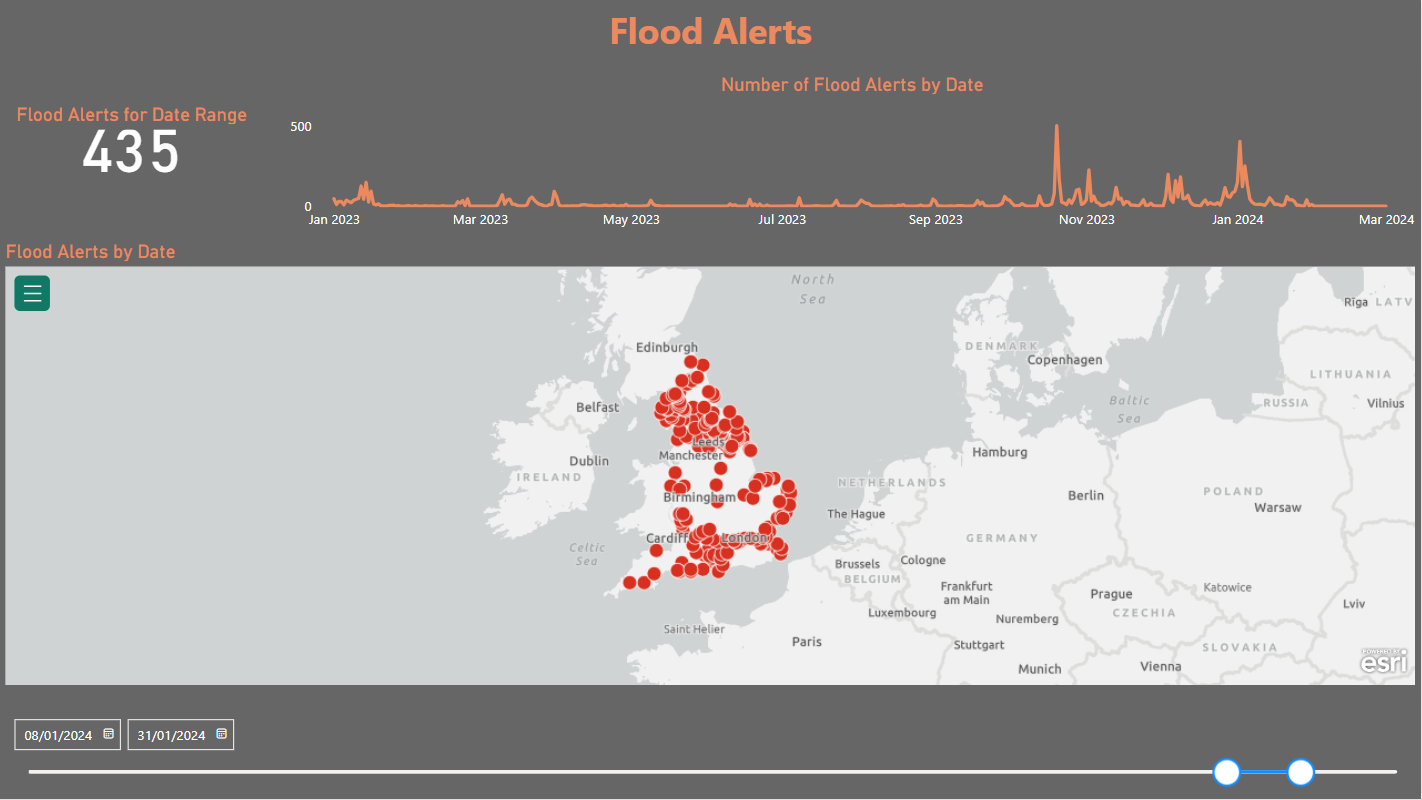

Layout of this report page (visuals, bound fields, positions):
{"tool":"powerbi","page":{"name":"FloodAlerts","canvas":[1280,720],"ordinal":0},"visuals":[{"type":"esriVisual","title":"Flood Alerts by Date","fields":{"Latitude":["vw_ml_training_flood_short.flood_area_latitude"],"Longitude":["vw_ml_training_flood_short.flood_area_longitude"],"Color":["Sum(vw_ml_training_flood_short.flood)"]},"box":[0,216.5,1280,406.1],"z":0},{"type":"slicer","fields":{"Values":["vw_ml_training_flood_short.date"]},"box":[0,638.1,1280,81.7],"z":1000},{"type":"textbox","box":[0,0,1280,56.4],"z":2000},{"type":"lineChart","title":"Number of Flood Alerts by Date","fields":{"Category":["vw_ml_training_flood_short.date"],"Y":["Sum(vw_ml_training_flood_short.flood)"]},"box":[256,66,1024,150],"z":4000},{"type":"card","title":"Flood Alerts for Date Range","fields":{"Values":["Sum(vw_ml_training_flood_short.flood)"]},"box":[0,93,237,75],"z":5000}]}

Visuals, with their boxes in screenshot pixels (x1, y1, x2, y2), scaled from the page's 1280x720 canvas onto the 1422x800 screenshot:
"Flood Alerts by Date" esriVisual: bbox=(0, 241, 1421, 692)
slicer - vw_ml_training_flood_short.date: bbox=(0, 709, 1421, 799)
textbox: bbox=(0, 0, 1421, 63)
"Number of Flood Alerts by Date" lineChart: bbox=(284, 73, 1421, 240)
"Flood Alerts for Date Range" card: bbox=(0, 103, 263, 187)
